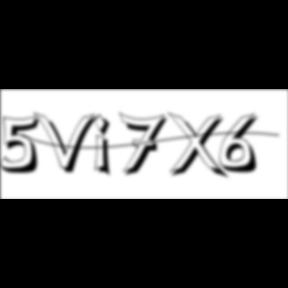5: (0, 114, 46, 176)
6: (220, 112, 266, 176)
7: (118, 111, 174, 179)
V: (34, 110, 102, 176)
X: (167, 112, 231, 182)
i: (94, 112, 118, 180)
